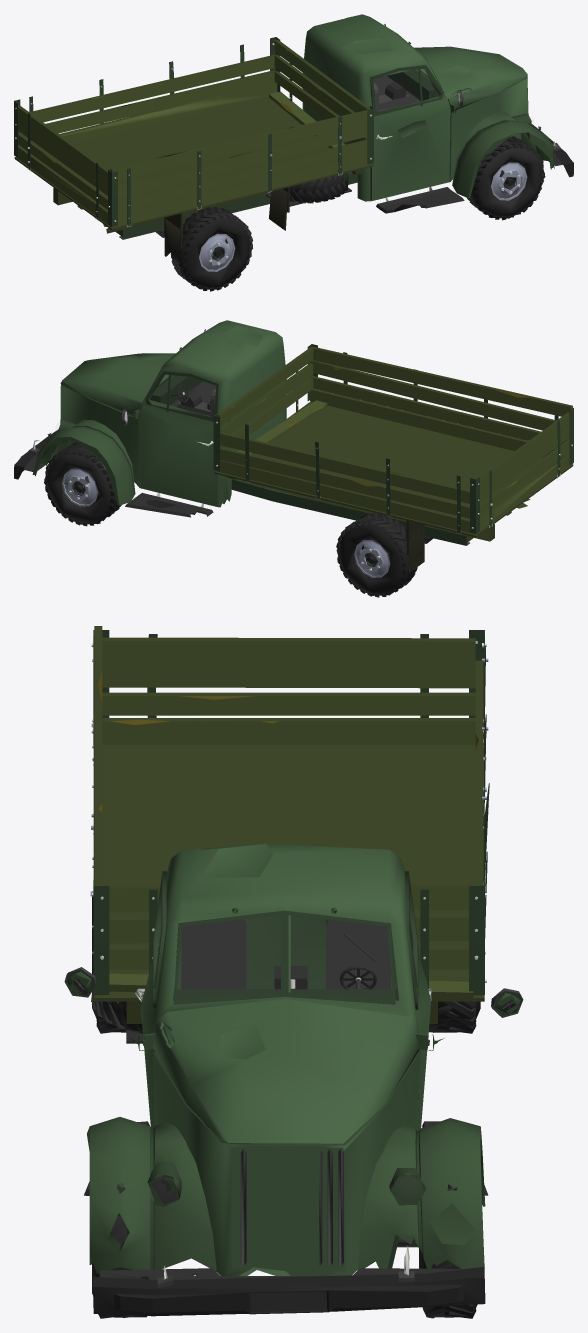
Rendered from gaz51-a.glb.
The picture shows the model from 3 angles, top to bottom: view 1: azimuth 30°, elevation 25°; view 2: azimuth 150°, elevation 25°; view 3: azimuth 270°, elevation 25°; orthographic projection. The views are drawn at different scales.
Visible parts, largest first — view 1: turn; view 2: turn; view 3: turn.
Boxes of the visible parts, x1,y1,x2,y2 form: turn: (14,14,573,291); turn: (14,320,573,597); turn: (64,626,523,1318).
Bounding box in the file's own units: 0.6706 × 0.237 × 0.2834.
Materials: 3 (3 with a texture image).
